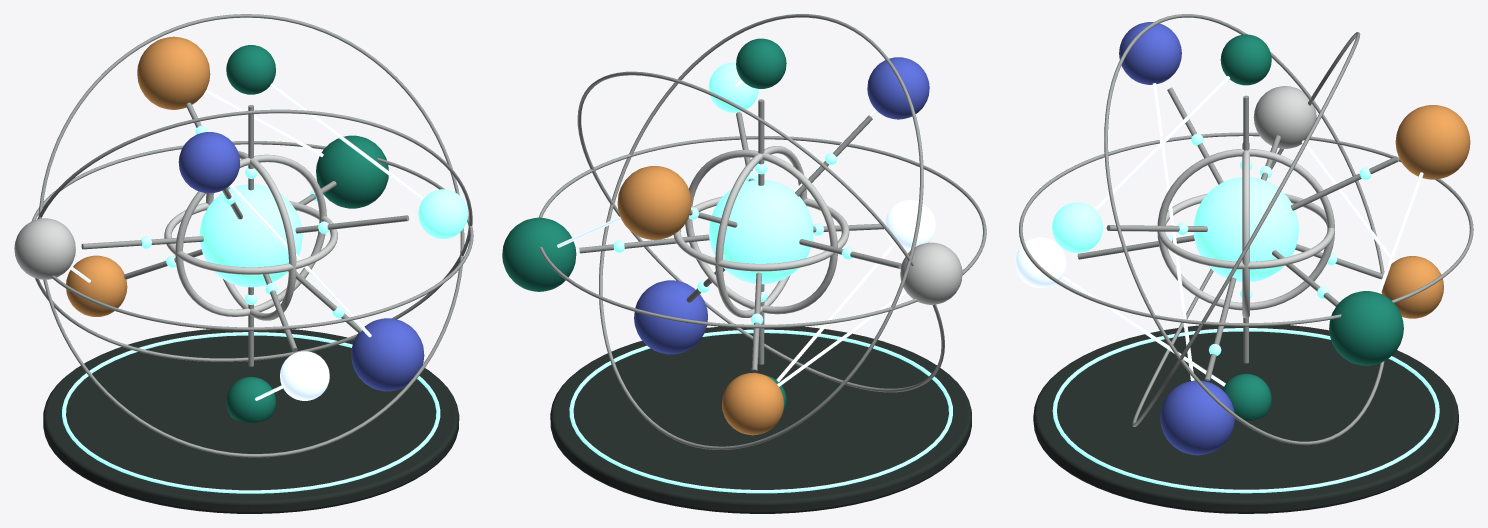
Rendered from service-ai.glb.
3 renders of one model, left to right at view 1: azimuth 30°, elevation 25°; view 2: azimuth 150°, elevation 25°; view 3: azimuth 270°, elevation 25°, orthographic. The views are drawn at different scales.
Parts seen in each view (by area): view 1: base, orbit (×3), core-ring (×3), core, sat-amber-0.44, sat-indigo-0.44, sat-accent-0.44, sat-accent-0.3 (×2), sat-indigo-0.37, sat-chrome-0.37, sat-amber-0.37, link-glow (×3) (+3 smaller); view 2: base, orbit (×3), core-ring (×3), core, sat-amber-0.44, sat-accent-0.44, sat-indigo-0.44, sat-amber-0.37, sat-chrome-0.37, sat-indigo-0.37, sat-accent-0.3, link (×3) (+3 smaller); view 3: base, orbit (×3), core, core-ring (×3), sat-amber-0.44, sat-accent-0.44, sat-indigo-0.44, sat-accent-0.3 (×2), link-glow (×5), link (×5), sat-chrome-0.37, sat-indigo-0.37 (+3 smaller).
Boxes of the visible parts, box(x1,y1,x2,y2) form: base: box(43, 329, 459, 513); orbit (×3): box(32, 14, 473, 457); core-ring (×3): box(164, 151, 337, 320); core: box(199, 184, 302, 287); sat-amber-0.44: box(137, 36, 210, 109); sat-indigo-0.44: box(351, 318, 424, 391); sat-accent-0.44: box(316, 135, 388, 208); sat-accent-0.3 (×2): box(226, 45, 275, 422); sat-indigo-0.37: box(178, 132, 240, 193); sat-chrome-0.37: box(14, 218, 75, 279); sat-amber-0.37: box(66, 255, 127, 316); link-glow (×3): box(205, 83, 424, 337); base: box(550, 326, 971, 513); orbit (×3): box(538, 14, 986, 449); core-ring (×3): box(673, 146, 849, 317); core: box(709, 180, 813, 284); sat-amber-0.44: box(617, 166, 691, 239); sat-accent-0.44: box(502, 217, 576, 291); sat-indigo-0.44: box(634, 280, 707, 354); sat-amber-0.37: box(722, 373, 783, 435); sat-chrome-0.37: box(900, 242, 962, 304); sat-indigo-0.37: box(867, 57, 929, 119); sat-accent-0.3: box(736, 38, 786, 88); link (×3): box(579, 234, 901, 372); base: box(1033, 325, 1458, 513); orbit (×3): box(1019, 14, 1473, 445); core: box(1193, 177, 1298, 281); core-ring (×3): box(1157, 142, 1334, 318); sat-amber-0.44: box(1395, 105, 1470, 179); sat-accent-0.44: box(1329, 291, 1403, 365); sat-indigo-0.44: box(1160, 380, 1234, 455); sat-accent-0.3 (×2): box(1220, 34, 1271, 420); link-glow (×5): box(1061, 76, 1423, 386); link (×5): box(1077, 87, 1398, 380); sat-chrome-0.37: box(1253, 86, 1316, 148); sat-indigo-0.37: box(1119, 22, 1181, 84).
Bounding box in the file's own units: 5.64 × 5.04 × 5.38.
